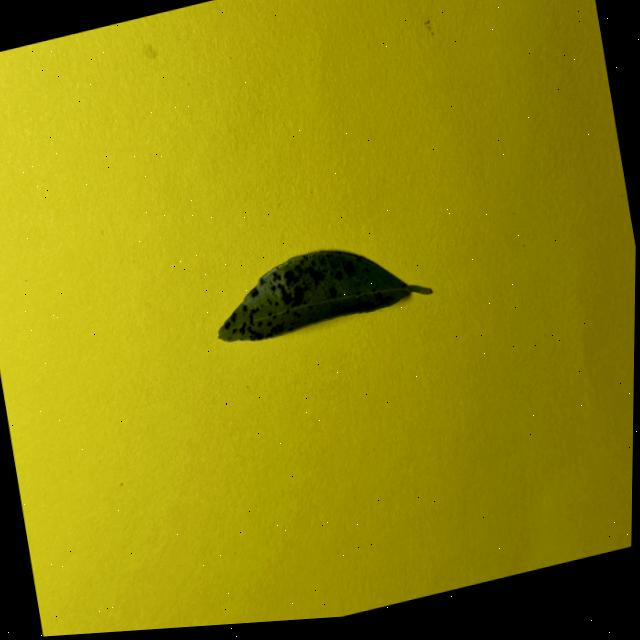sooty_mold: (217, 251, 430, 342)
